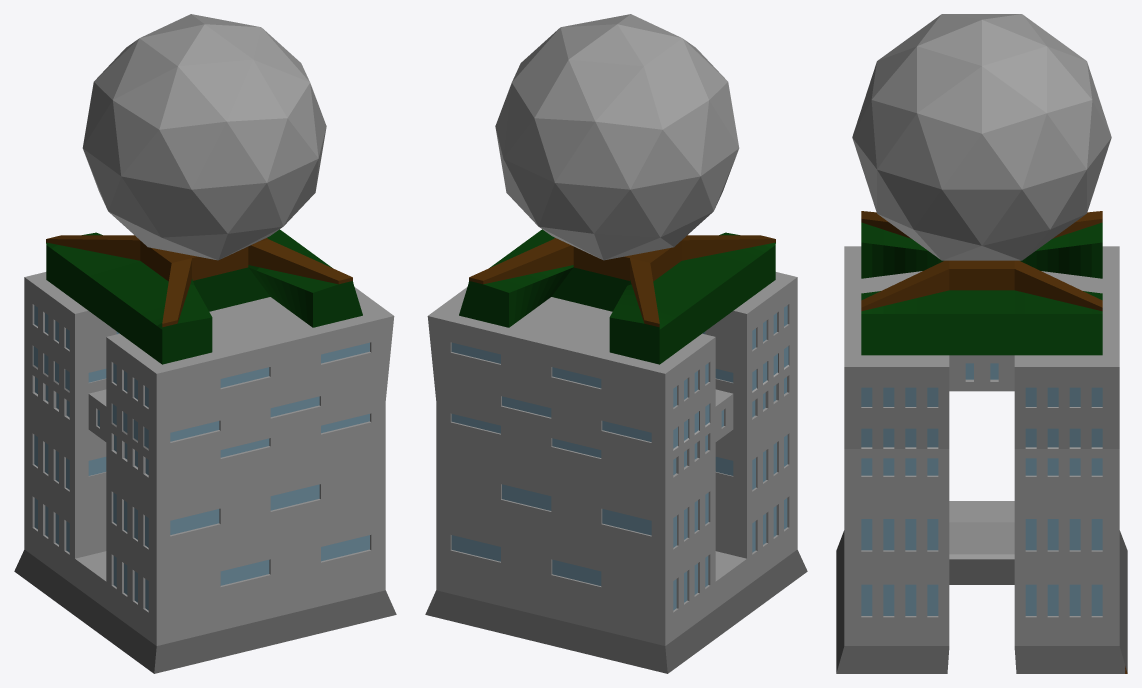
Rendered from target.fbx.
3 renders of one model, left to right at view 1: azimuth 30°, elevation 25°; view 2: azimuth 150°, elevation 25°; view 3: azimuth 270°, elevation 25°, orthographic. The views are drawn at different scales.
Parts seen in each view (by area): view 1: Cube; view 2: Cube; view 3: Cube.
Part boxes in pixels (x1,y1,x2,y2): Cube: (14,14,396,673); Cube: (425,14,807,673); Cube: (836,14,1127,673).
Bounding box in the file's own units: 602 × 1342 × 598.
